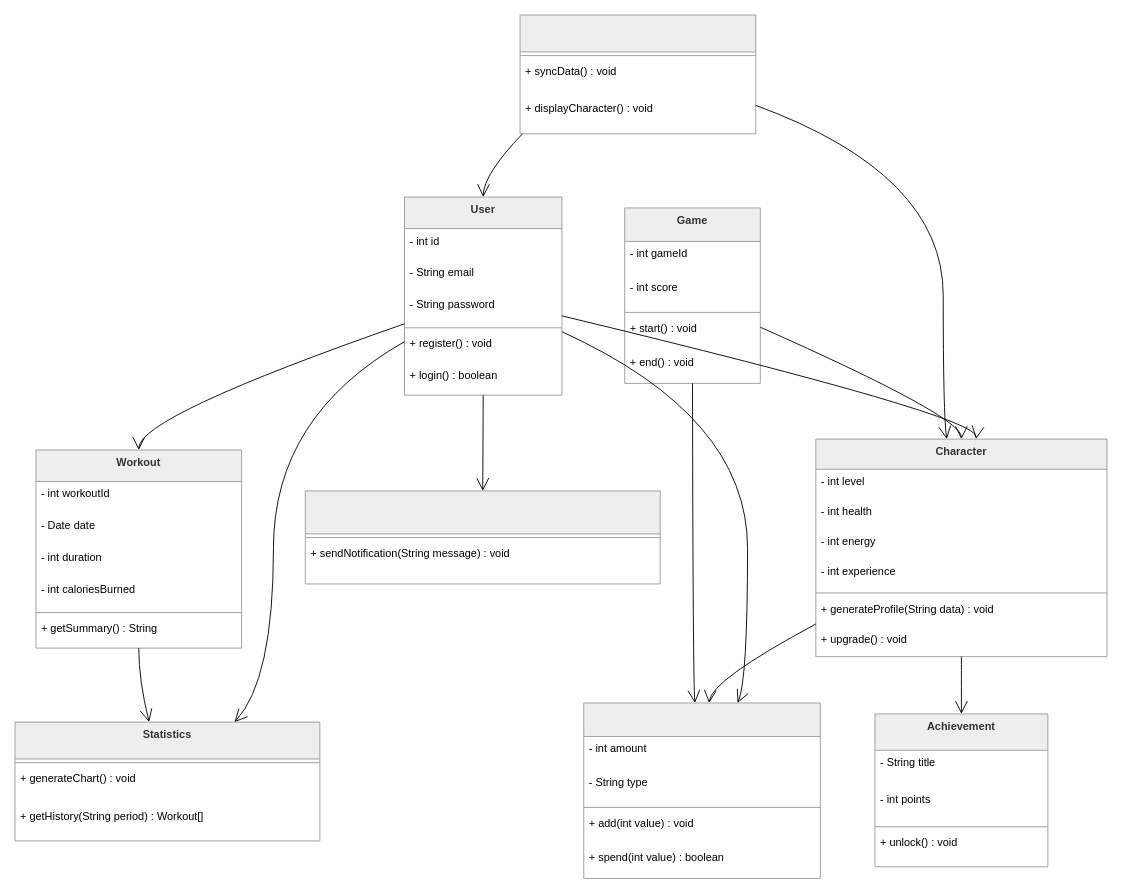
The diagram is 1122 pixels wide and 894 high, and some of its shapes have lost their labels. Each missing label, with the box of its shape:
AppleWatch: (519, 14, 756, 134)
NotificationService: (304, 490, 660, 584)
Resource: (583, 702, 820, 878)
